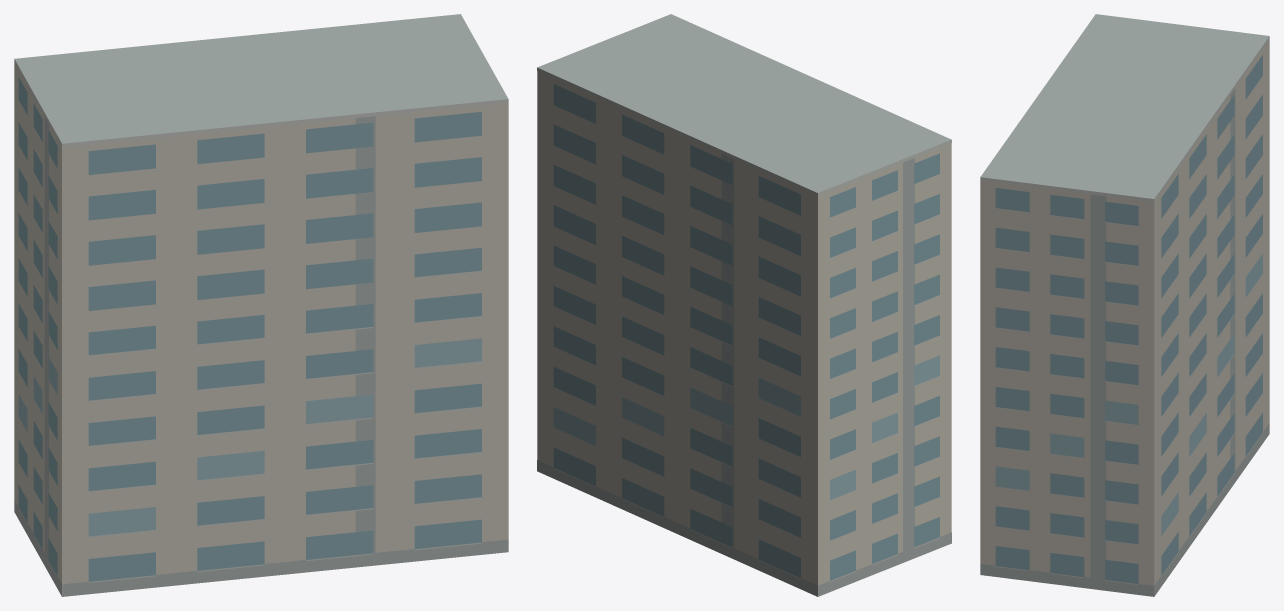
The model's file is residential-9e1e9a71-c0e5-4f4f-8e83-731b12212318.glb.
3 views of the same model, side by side, from view 1: azimuth 30°, elevation 25°; view 2: azimuth 150°, elevation 25°; view 3: azimuth 270°, elevation 25° (orthographic). The views are drawn at different scales.
Parts seen in each view (by area): view 1: residential-9e1e9a71-c0e5-4f4f-8e83-731b12212318.tmp; view 2: residential-9e1e9a71-c0e5-4f4f-8e83-731b12212318.tmp; view 3: residential-9e1e9a71-c0e5-4f4f-8e83-731b12212318.tmp.
Boxes of the visible parts, x1=… form: residential-9e1e9a71-c0e5-4f4f-8e83-731b12212318.tmp: x1=14, y1=14, x2=508, y2=596; residential-9e1e9a71-c0e5-4f4f-8e83-731b12212318.tmp: x1=537, y1=14, x2=951, y2=596; residential-9e1e9a71-c0e5-4f4f-8e83-731b12212318.tmp: x1=980, y1=14, x2=1269, y2=596.
Size of the model in its own units: 28.94 by 29 by 19.13.
